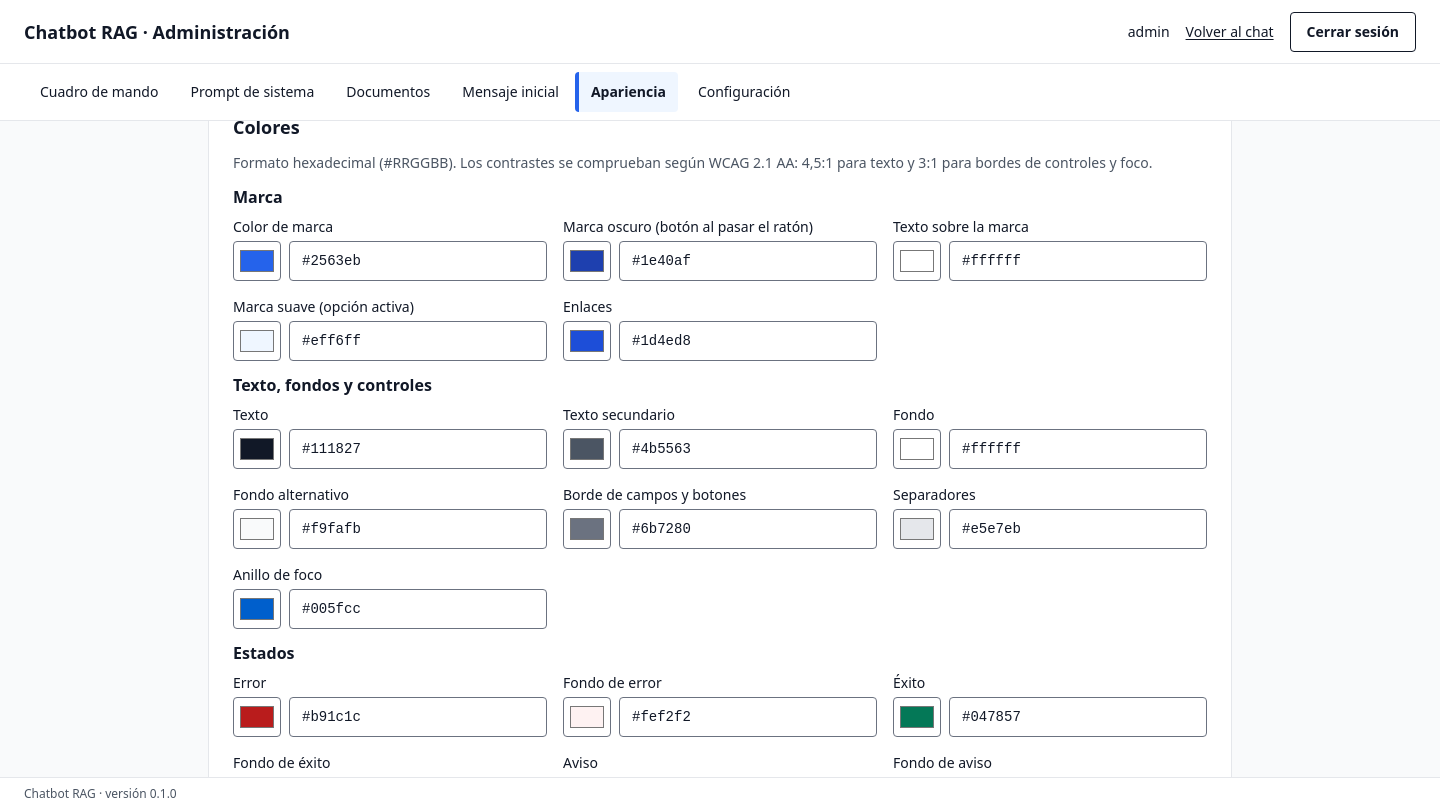
Test: AppearancePage › avisa en directo de los contrastes insuficientes y permite guardar igualmente
The width and height of the screenshot is (1440, 810).
(page scrolled)
Replace the text in the field labelled "Texto secundario" with "#9ca3af" at (748, 449), box x1=619 y1=429 x2=877 y2=469
(page scrolled)
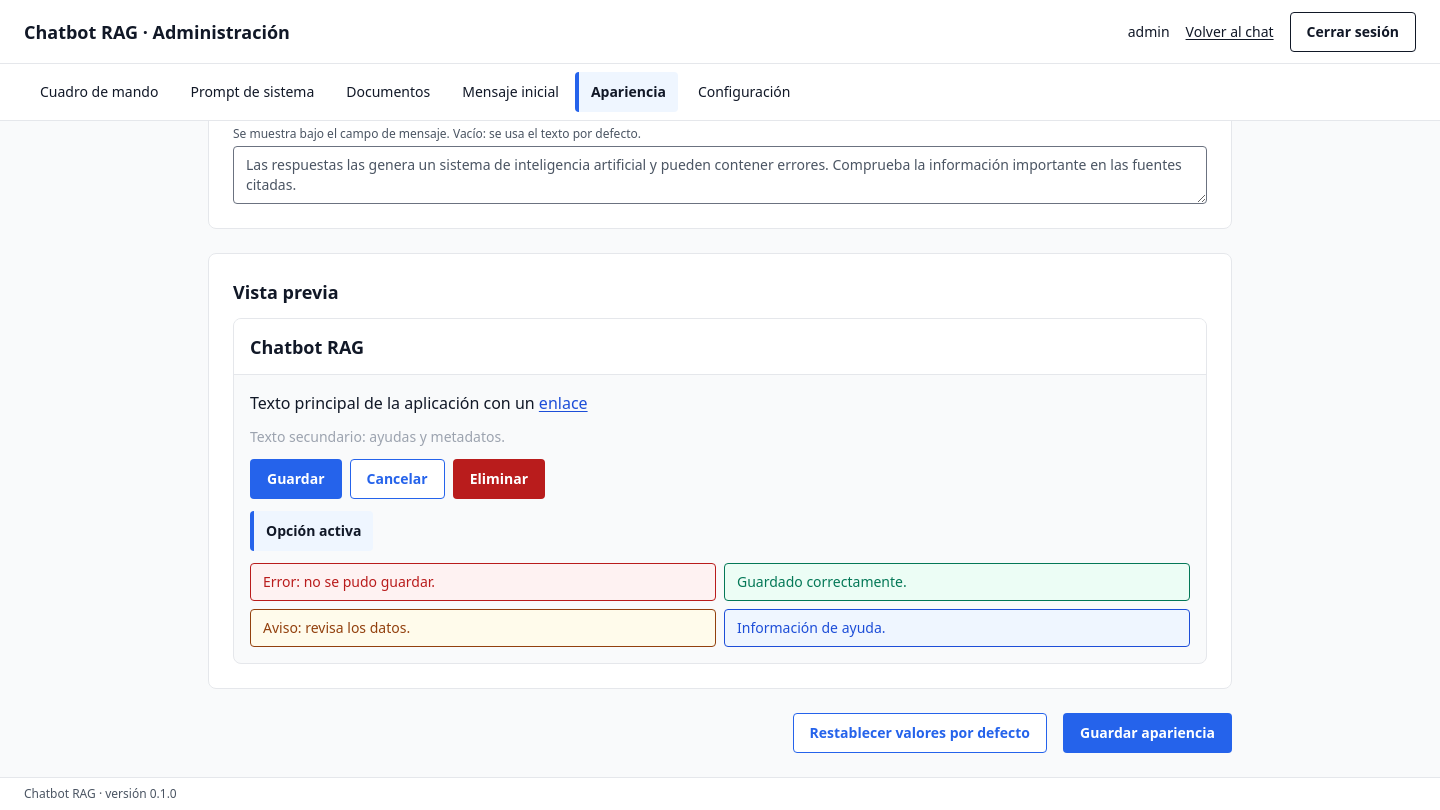
Click the button "Guardar apariencia" at (1148, 733), box x1=1063 y1=713 x2=1232 y2=753
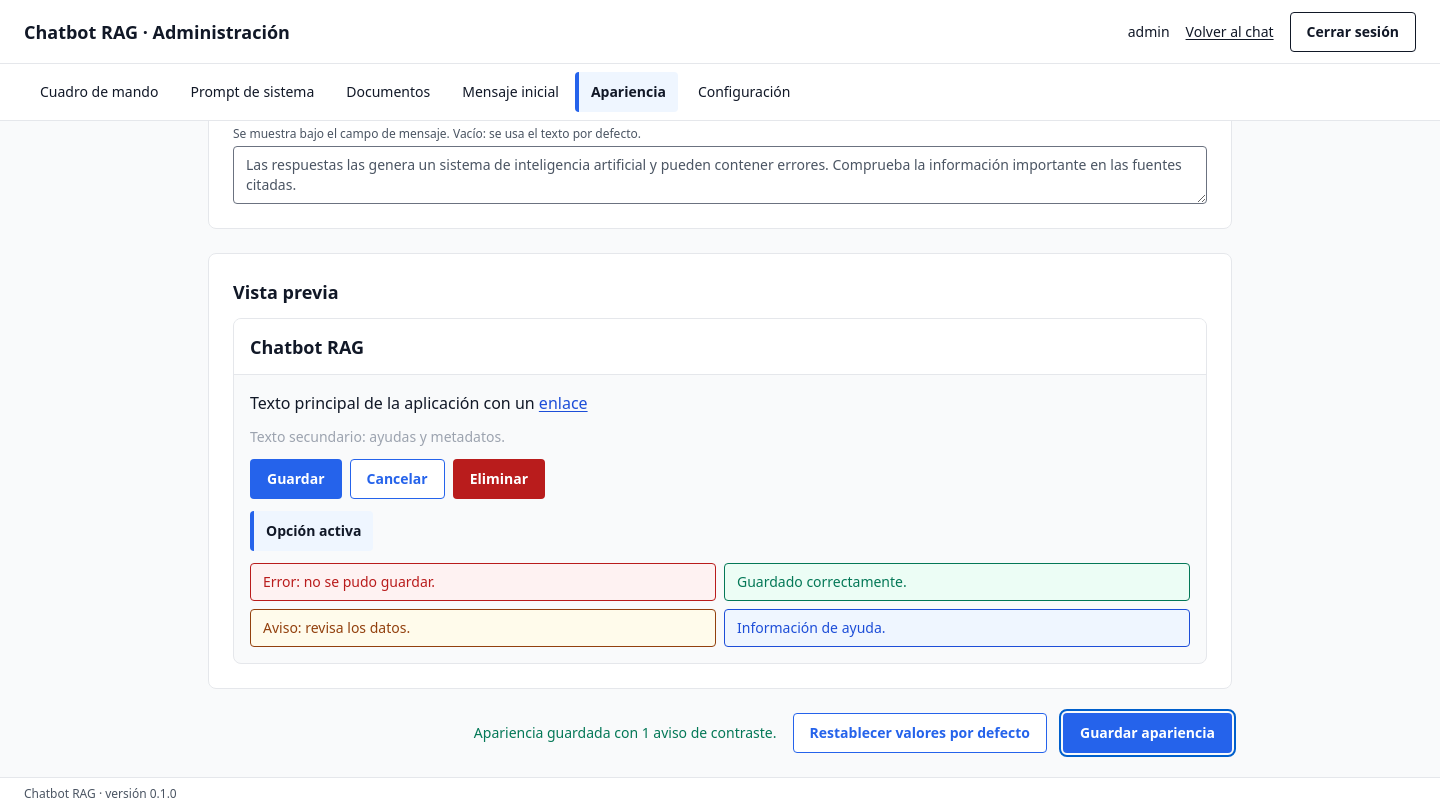
Check: the text "Apariencia guardada con 1 aviso de contraste." is shown, box x1=474 y1=723 x2=776 y2=743
